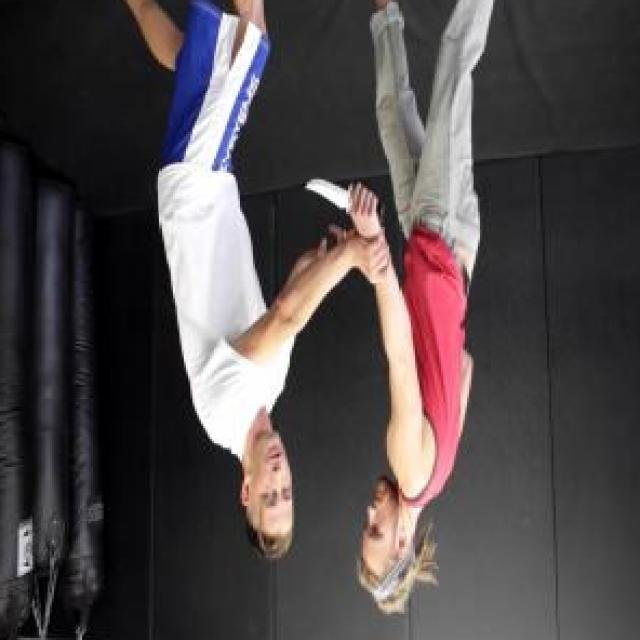knife: (302, 170, 387, 229)
